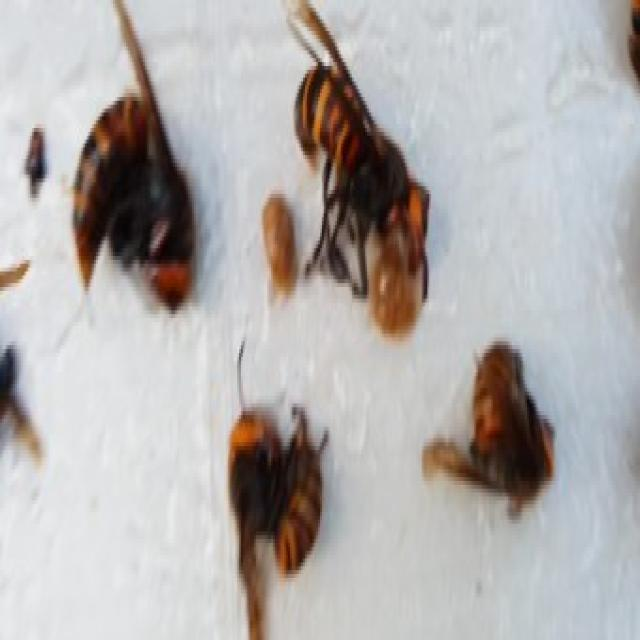Wasp: (269, 6, 435, 305)
